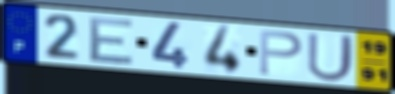2: (42, 13, 82, 62)
4: (149, 20, 195, 71), (201, 23, 244, 76)
E: (87, 16, 137, 66)
P: (257, 28, 305, 77)
U: (305, 31, 357, 84)
